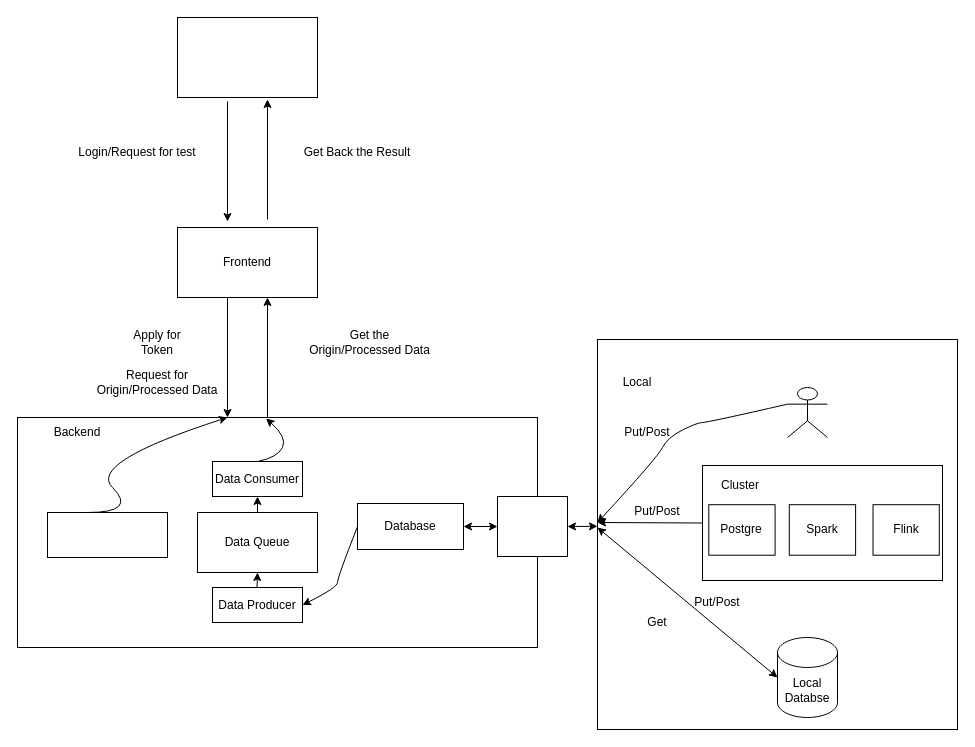
The diagram is 975 pixels wide and 747 high, and some of its shapes have lost their labels. Here are the shapes that lost their labels. From the top down, the centre of each, then its label:
[247,57]: Client
[807,412]: A nice guy like Yuze
[107,535]: Login Cookie&Authorization
[532,526]: PUT/POST Interface
